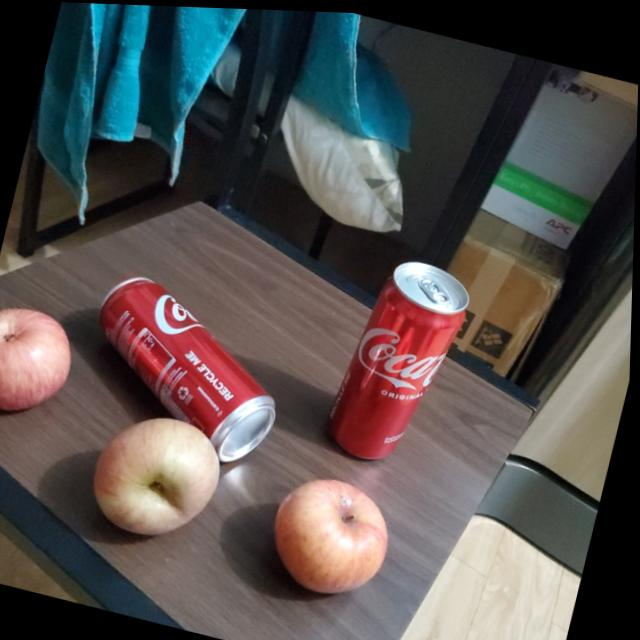apple: (86, 401, 234, 548), (262, 464, 403, 604), (0, 300, 85, 425)
coke: (78, 268, 309, 472), (326, 240, 485, 469)
